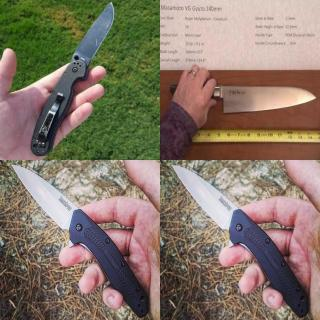knife: (168, 160, 310, 320), (9, 160, 149, 320), (28, 1, 142, 157), (190, 62, 316, 114)
